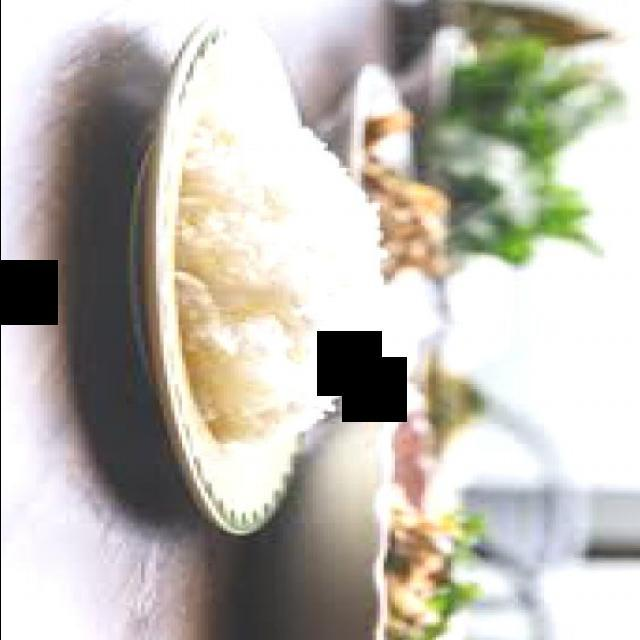rice: (173, 103, 387, 447)
